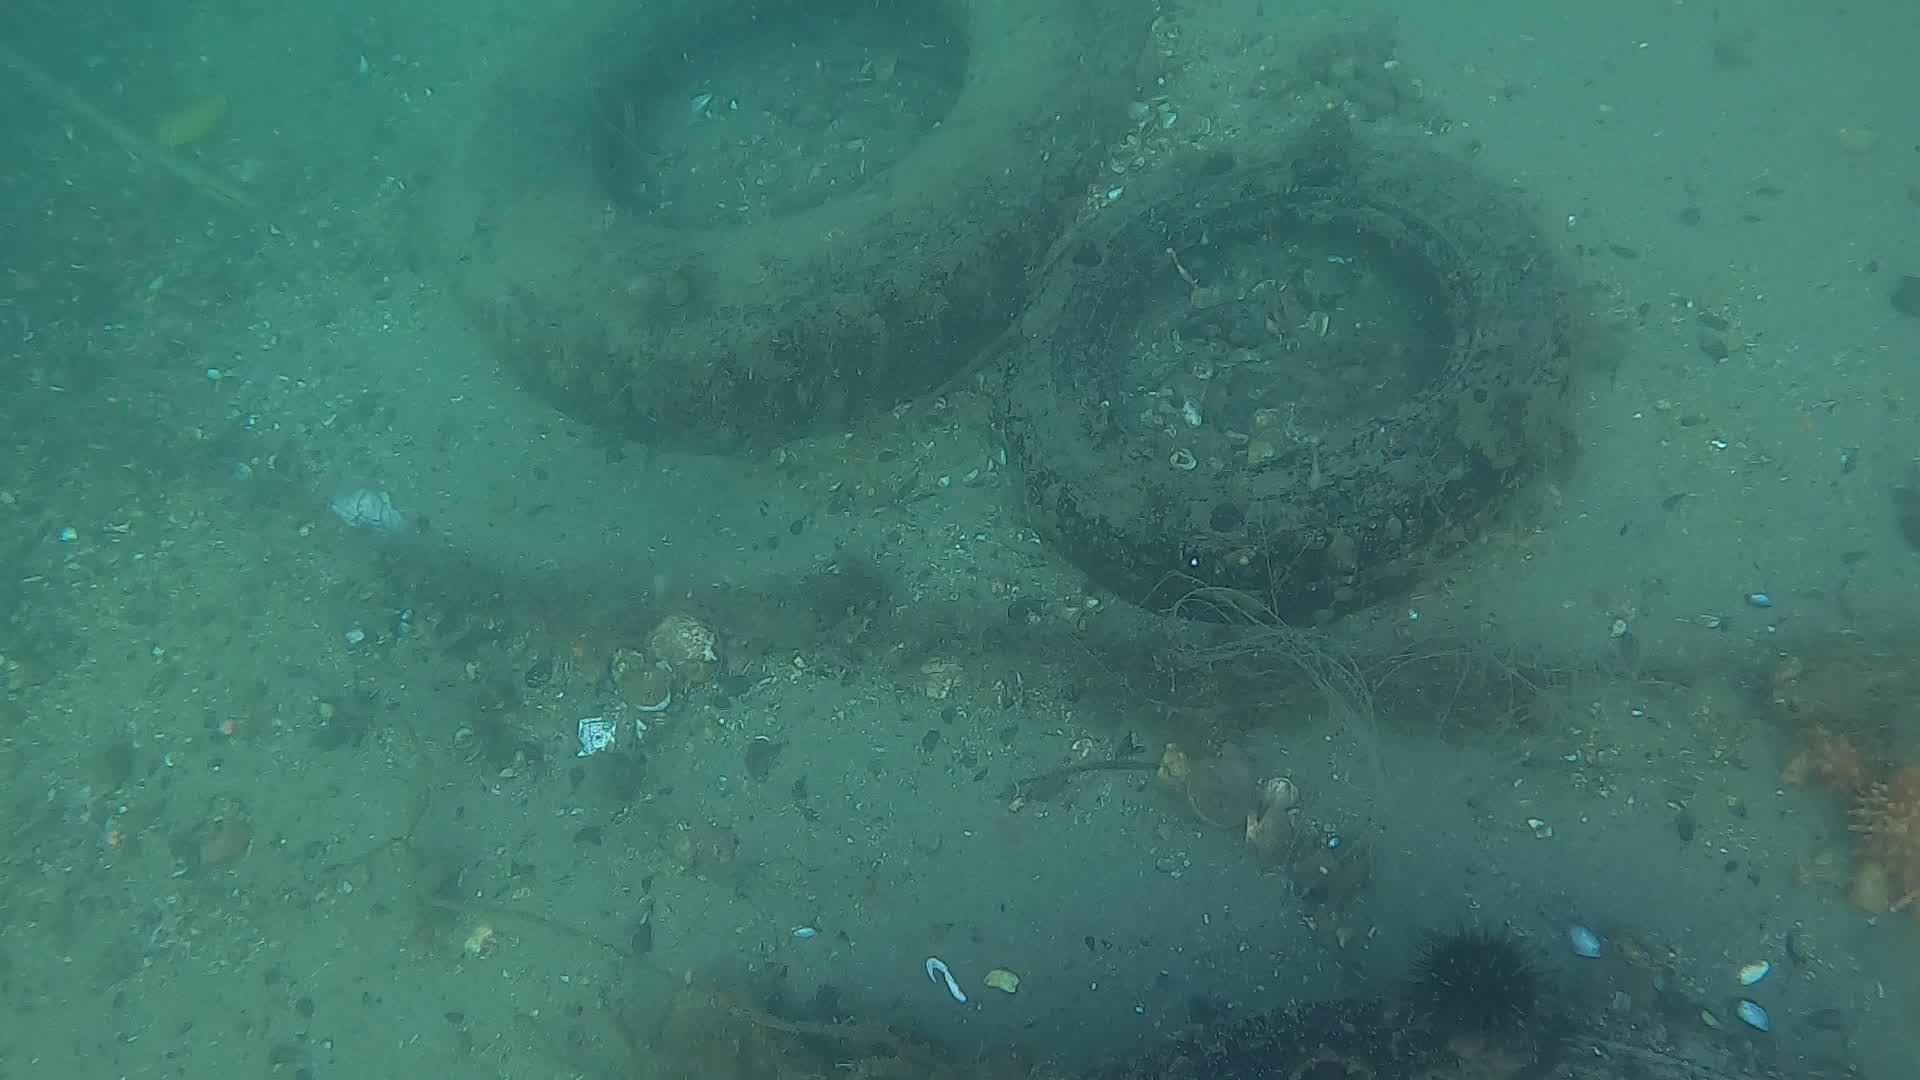tire: (450, 0, 1127, 452), (996, 138, 1569, 622)
